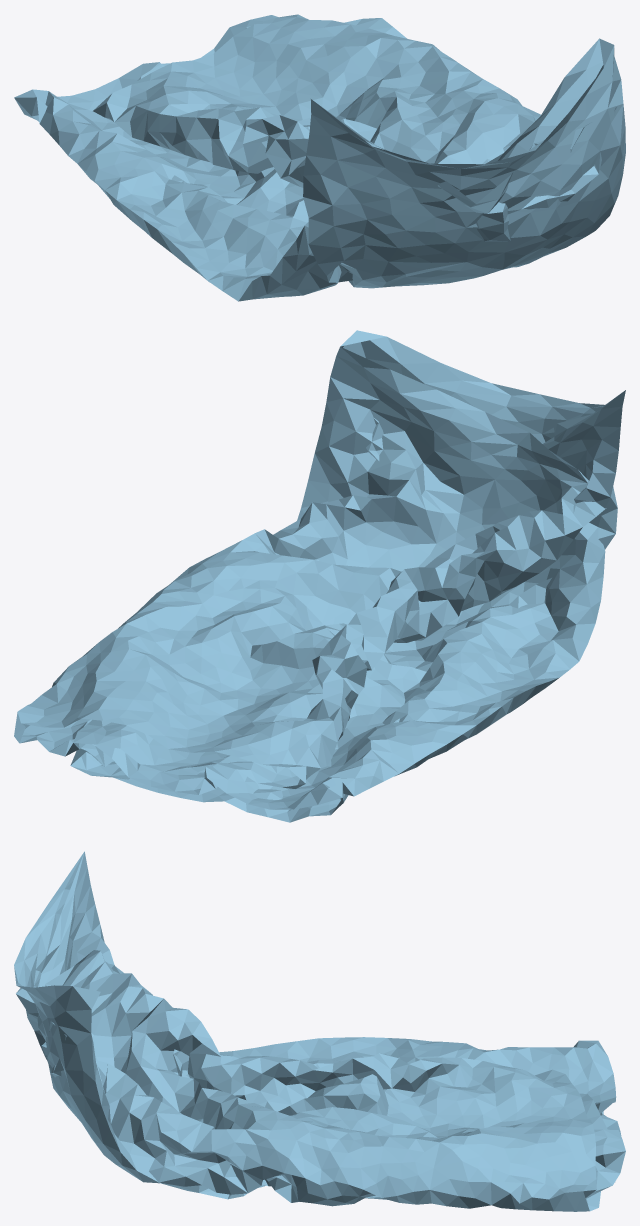
The model's file is frame_06.glb.
3 renders of one model, top to bottom at view 1: azimuth 30°, elevation 25°; view 2: azimuth 150°, elevation 25°; view 3: azimuth 270°, elevation 25°, orthographic. The views are drawn at different scales.
Parts seen in each view (by area): view 1: frame_06.obj; view 2: frame_06.obj; view 3: frame_06.obj.
Boxes of the visible parts, <box> form: frame_06.obj: <box>14,14,625,301</box>; frame_06.obj: <box>14,330,625,822</box>; frame_06.obj: <box>14,851,625,1211</box>.
Size of the model in its own units: 0.9693 by 0.6285 by 1.56.
